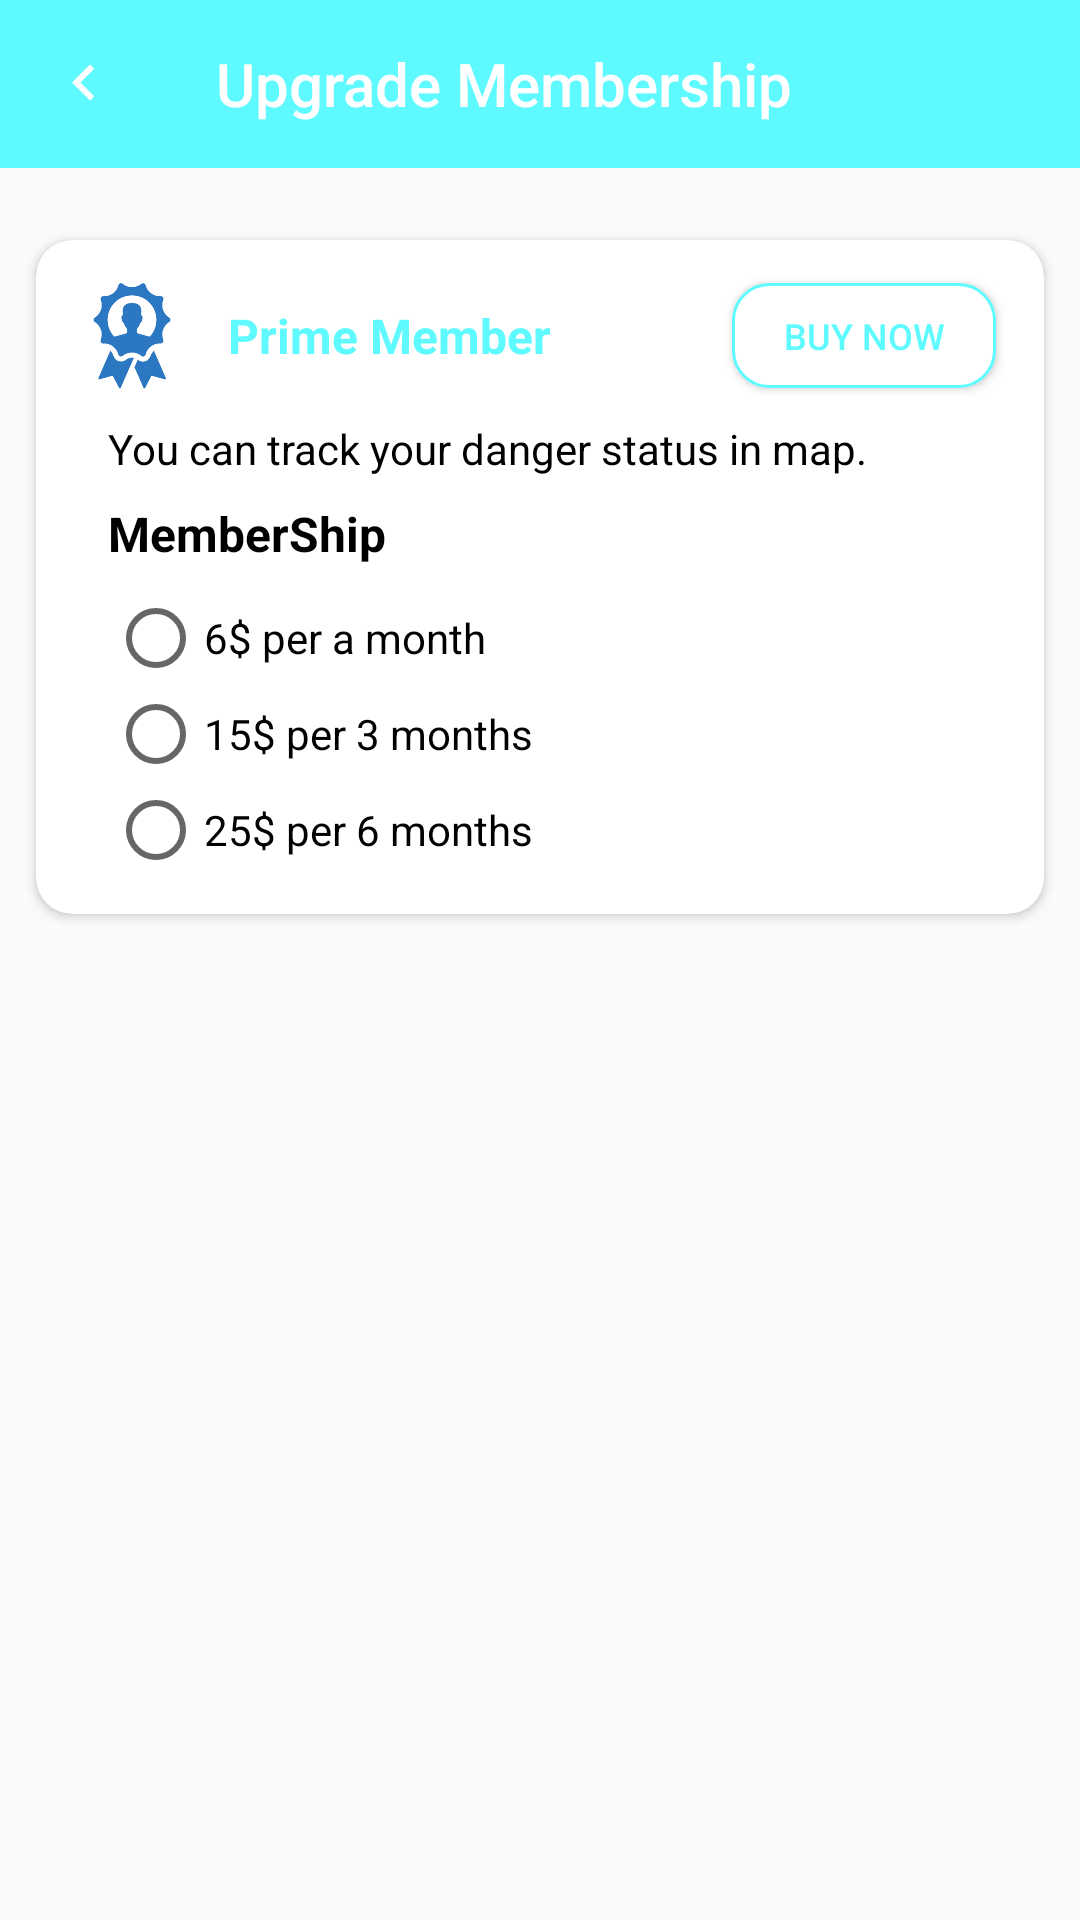

Where to tap for icons on this 1080px×1920px app screen, as (x,y):
prime user: (132,336)
